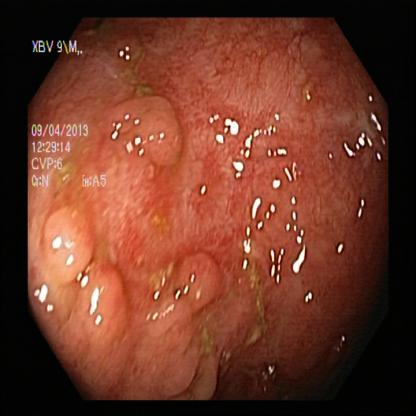Labels: (29, 115, 109, 200), (30, 30, 86, 75)
Polyps: (119, 100, 223, 304), (37, 204, 124, 342)
